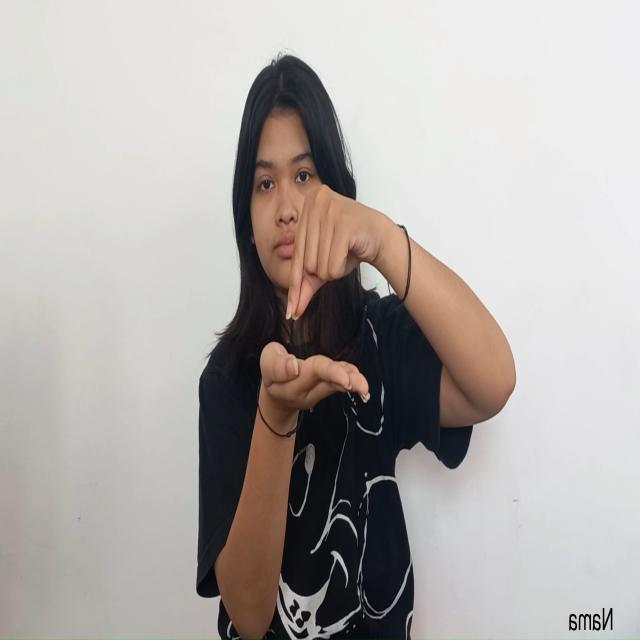Nama -BISINDO-: (258, 182, 387, 434)
